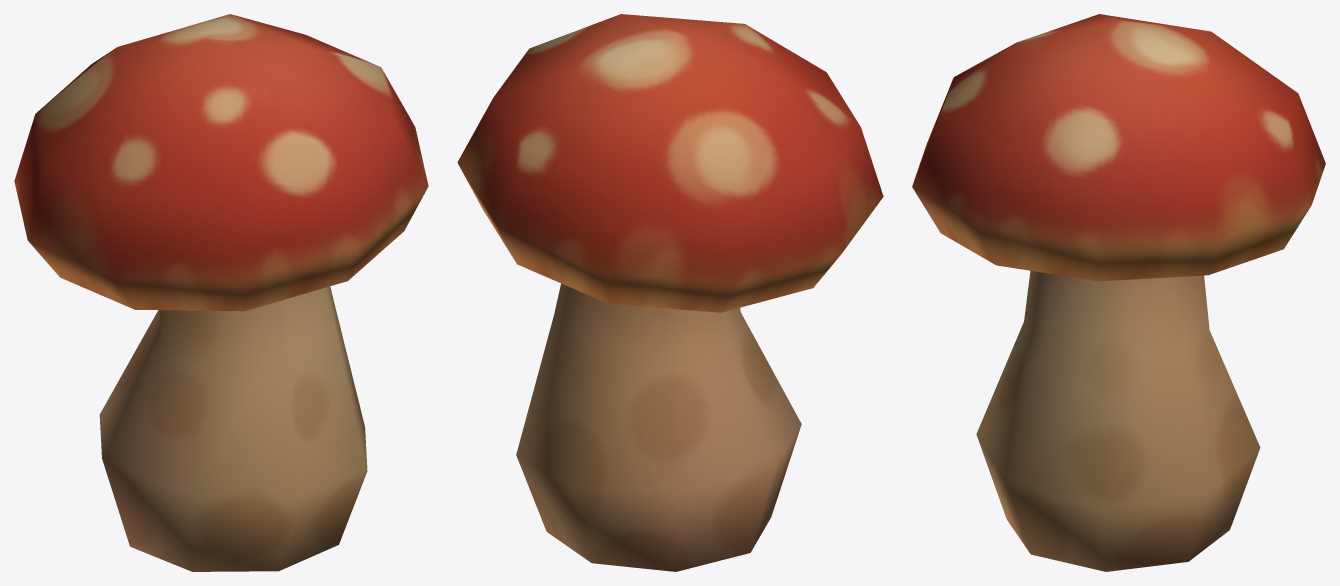
File: mashroom03.fbx
The picture shows the model from 3 angles, left to right: view 1: azimuth 30°, elevation 25°; view 2: azimuth 150°, elevation 25°; view 3: azimuth 270°, elevation 25°; orthographic projection.
Visible parts, largest first — view 1: mushroom03; view 2: mushroom03; view 3: mushroom03.
Boxes of the visible parts, <box> form: mushroom03: <box>14,14,428,571</box>; mushroom03: <box>457,14,883,571</box>; mushroom03: <box>912,14,1325,571</box>.
Bounding box in the file's own units: 25.56 × 35.66 × 25.32.
